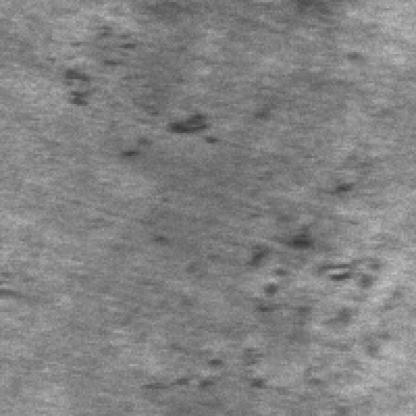rolled-in_scale: (158, 224, 391, 396), (66, 22, 229, 144)
